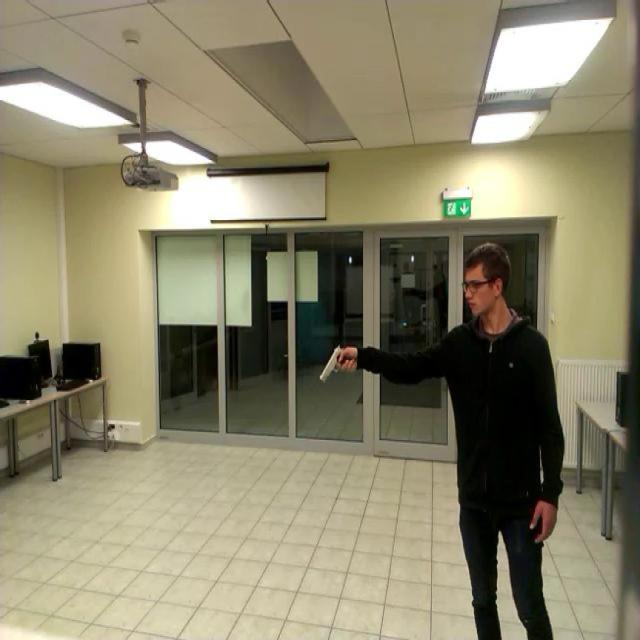pistol: (319, 344, 354, 382)
